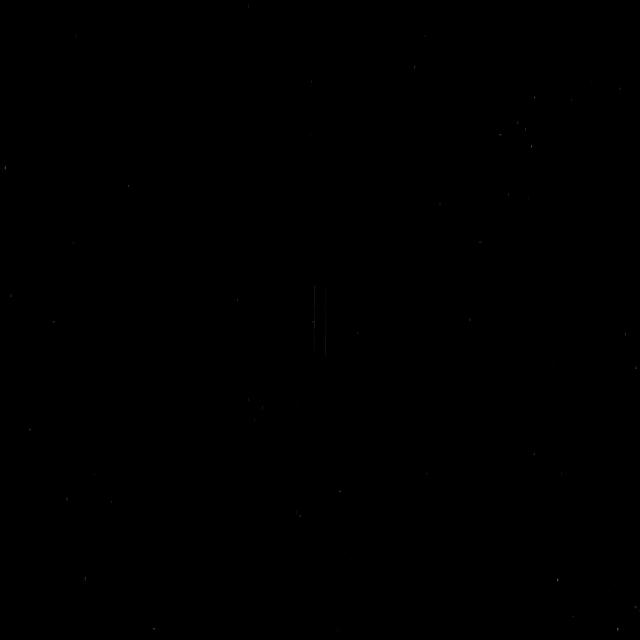satellite: (273, 262, 367, 356)
